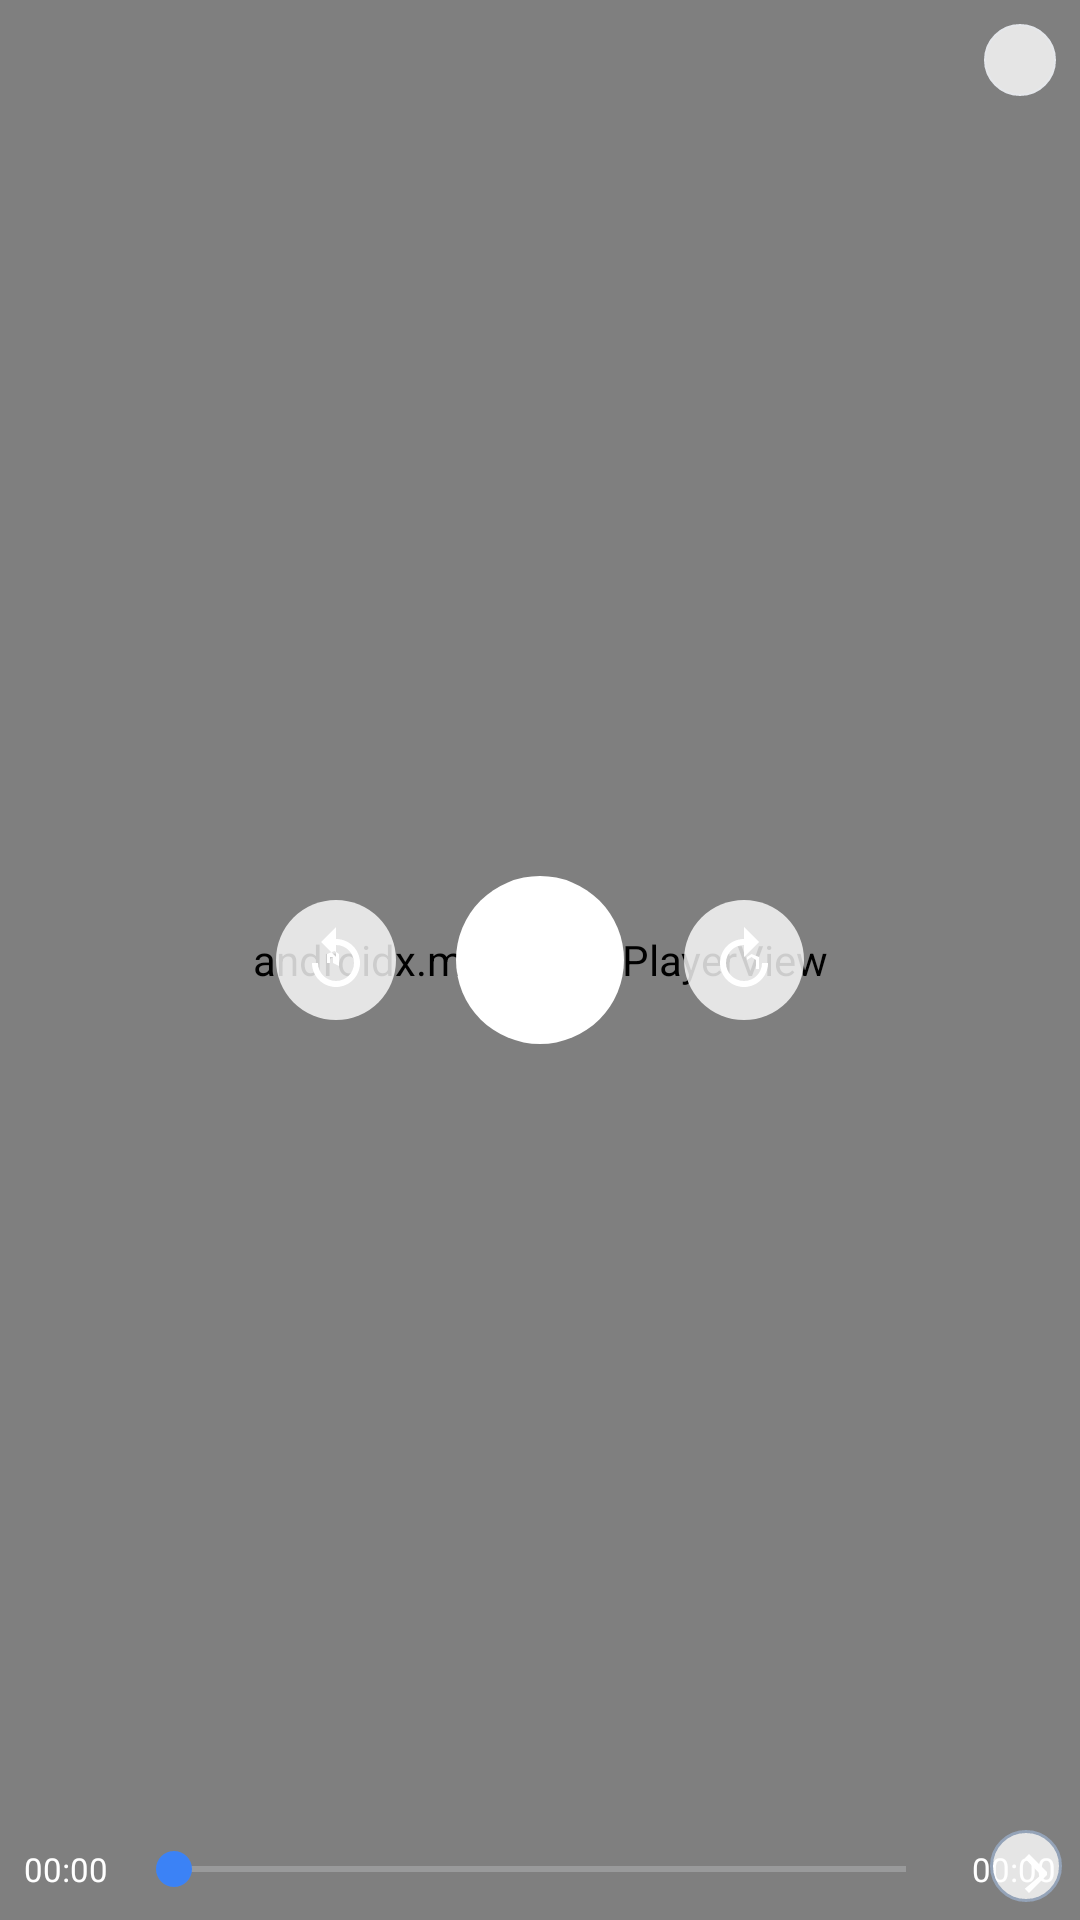

Icons on this 1080*1920 Android screen, each with its box as bbox=[x1, y1, x2, y2]:
前进 10 秒: bbox=[684, 900, 804, 1020]
后退 10 秒: bbox=[276, 900, 396, 1020]
